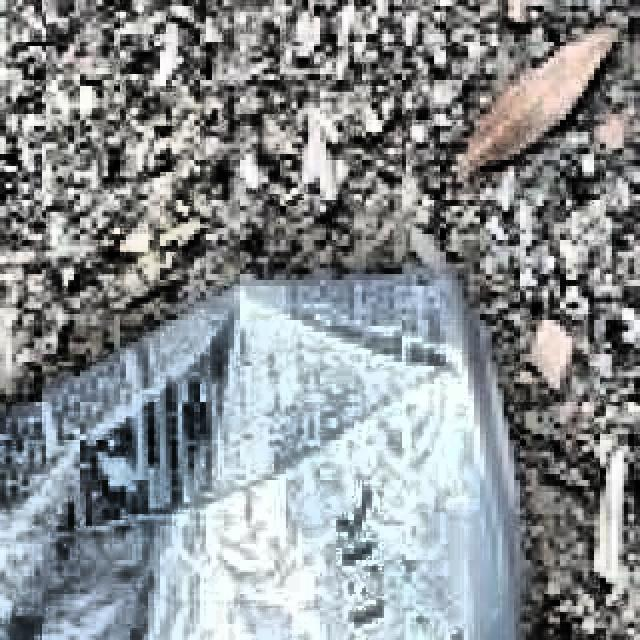metal: (0, 272, 522, 640)
